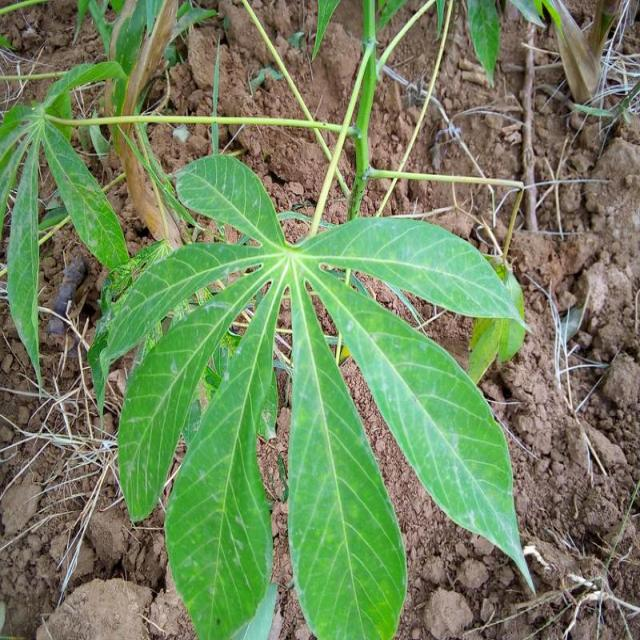cassava leaf: (90, 151, 536, 638), (300, 258, 538, 595), (164, 261, 286, 638), (287, 264, 409, 638)
